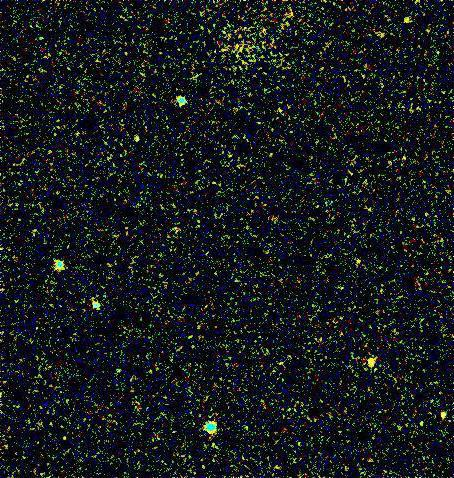star: (358, 345, 388, 375)
